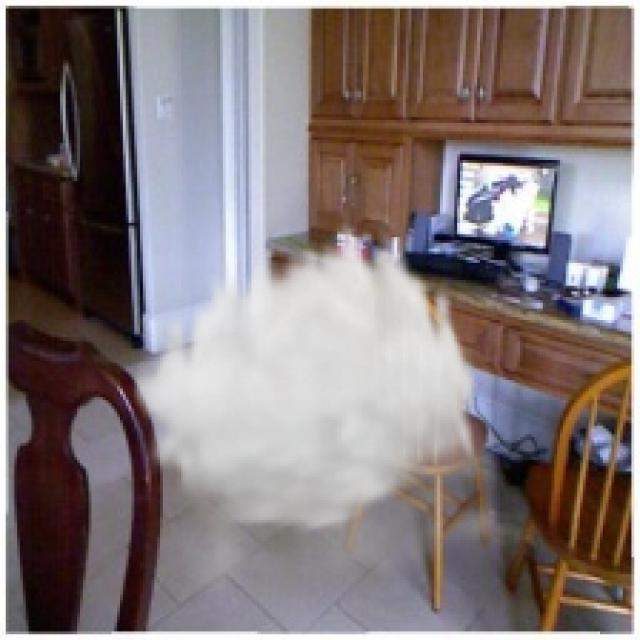Smoke: (128, 214, 554, 609)
